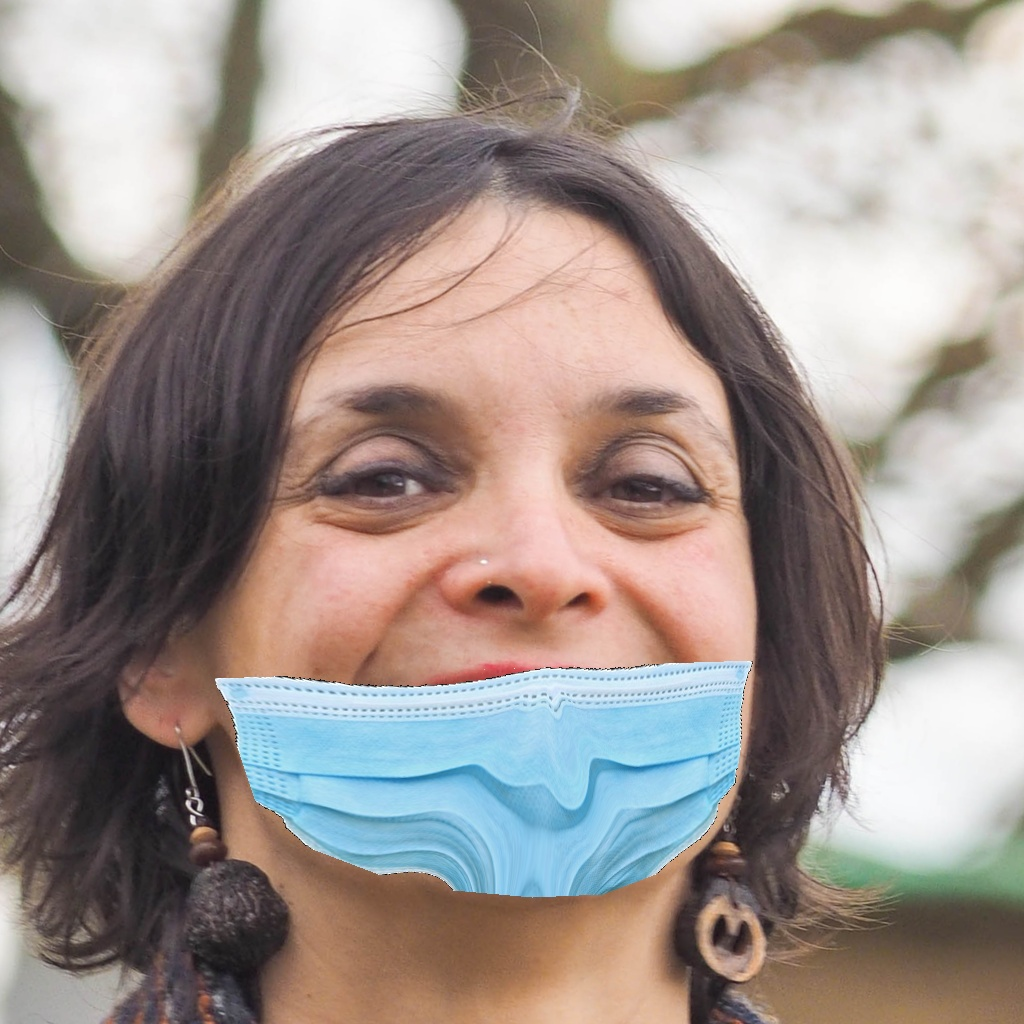mascarilla_mal_puesta: (147, 343, 817, 915)
